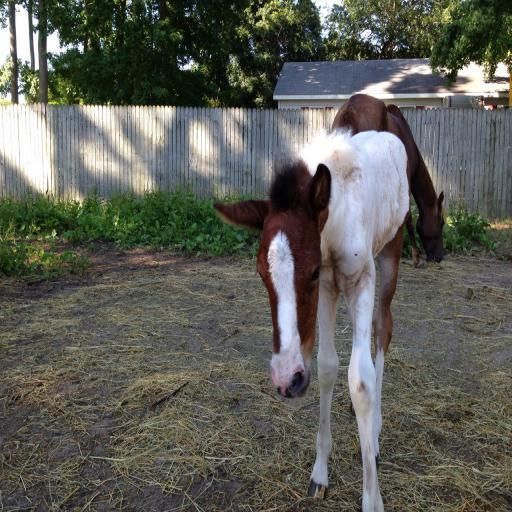horse: (213, 124, 412, 512), (330, 94, 446, 270)
